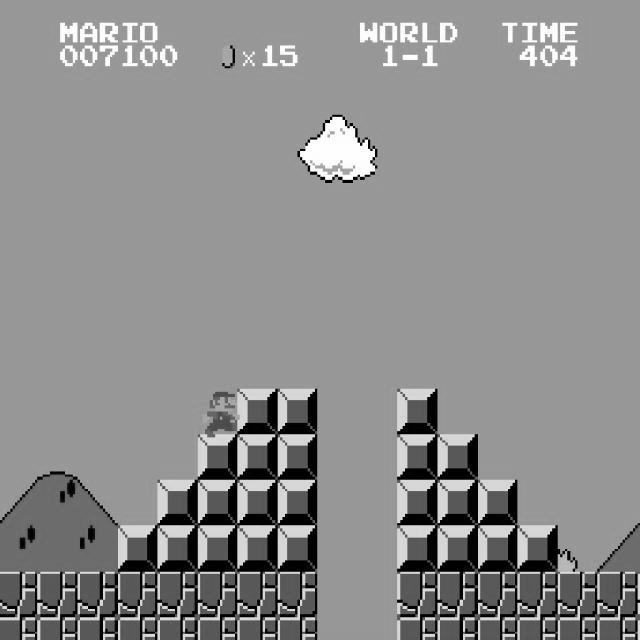11- little_mario: (202, 389, 245, 437)
17- undestructible_block: (37, 572, 78, 618), (77, 572, 118, 618), (117, 572, 158, 618), (157, 572, 198, 618), (197, 572, 238, 618), (237, 572, 278, 618), (277, 572, 318, 618), (397, 572, 438, 618), (437, 572, 478, 618), (477, 572, 518, 618), (517, 572, 558, 618), (557, 572, 598, 618), (597, 572, 638, 618), (0, 572, 37, 618), (37, 617, 78, 640), (77, 617, 118, 640), (117, 617, 158, 640), (157, 617, 198, 640), (197, 617, 238, 640), (237, 617, 278, 640), (277, 617, 318, 640), (397, 617, 438, 640), (437, 617, 478, 640), (477, 617, 518, 640), (517, 617, 558, 640), (557, 617, 598, 640), (597, 617, 638, 640), (0, 617, 37, 640), (637, 571, 640, 617), (637, 617, 640, 639)
9- hard_block: (117, 526, 158, 572), (157, 480, 198, 526), (157, 526, 198, 572), (197, 434, 238, 480), (197, 480, 238, 526), (197, 526, 238, 572), (237, 388, 278, 434), (237, 434, 278, 480), (237, 480, 278, 526), (237, 526, 278, 572), (277, 388, 318, 434), (277, 434, 318, 480), (277, 480, 318, 526), (277, 526, 318, 572), (397, 388, 438, 434), (397, 434, 438, 480), (397, 480, 438, 526), (397, 526, 438, 572), (437, 434, 478, 480), (437, 480, 478, 526), (437, 526, 478, 572), (477, 480, 518, 526), (477, 526, 518, 572), (517, 526, 558, 572)
